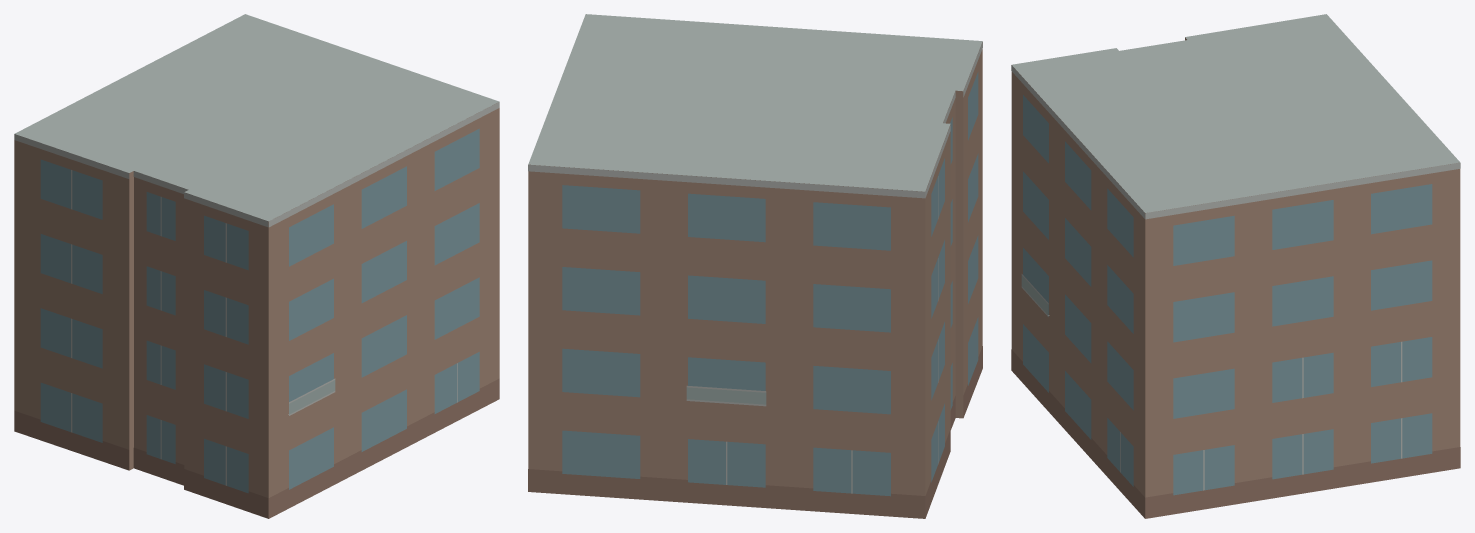
Rendered from survey-upis-33027690.glb.
3 views of the same model, side by side, from view 1: azimuth 30°, elevation 25°; view 2: azimuth 150°, elevation 25°; view 3: azimuth 270°, elevation 25° (orthographic). The views are drawn at different scales.
Parts seen in each view (by area): view 1: survey-upis-33027690.tmp; view 2: survey-upis-33027690.tmp; view 3: survey-upis-33027690.tmp.
Part boxes in pixels (bbox=[...]): survey-upis-33027690.tmp: bbox=[14, 14, 499, 518]; survey-upis-33027690.tmp: bbox=[528, 14, 982, 518]; survey-upis-33027690.tmp: bbox=[1011, 14, 1460, 518].
Size of the model in its own units: 16.56 by 11.85 by 15.78.
